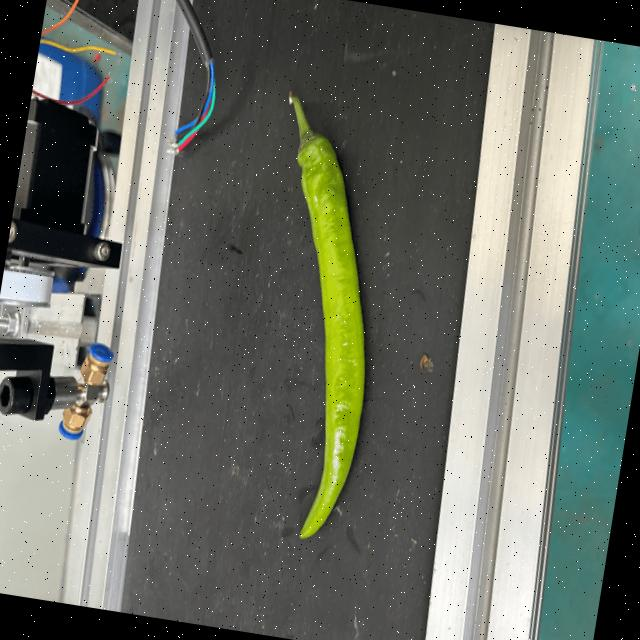chili: (295, 128, 366, 541)
